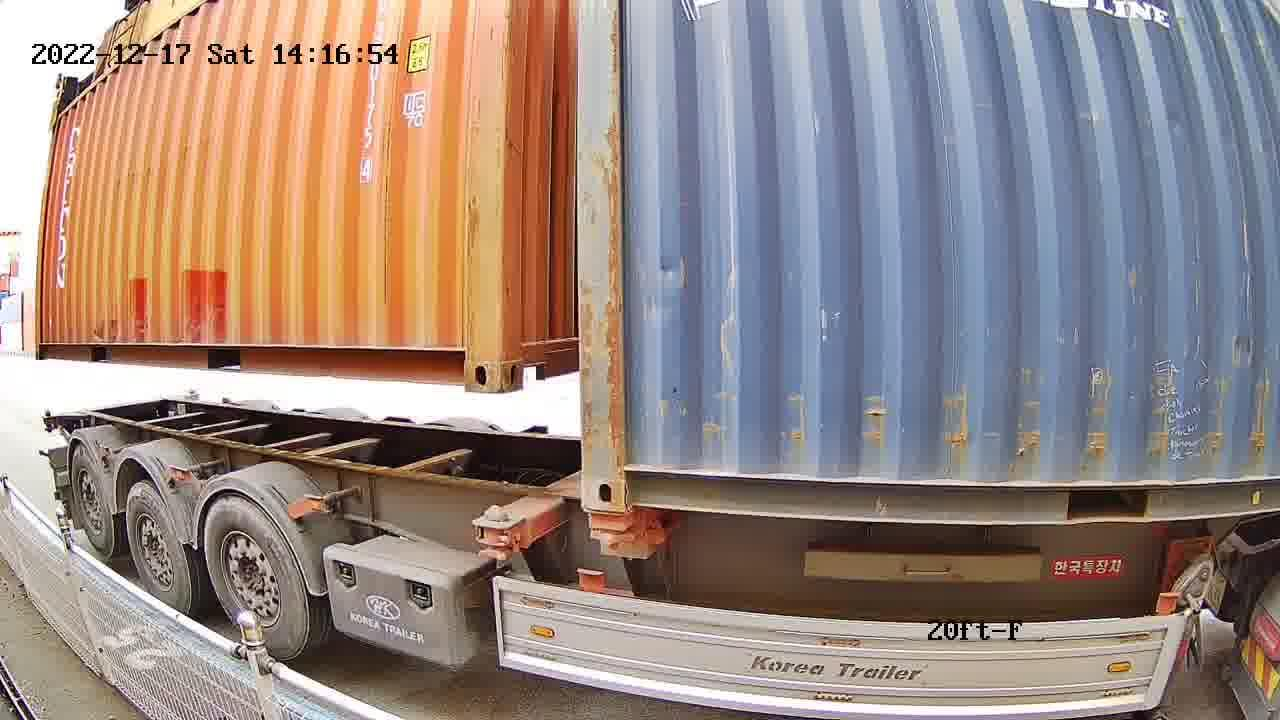Cone: (471, 502, 518, 564), (580, 511, 630, 557), (39, 406, 57, 437)
Hole_L: (583, 436, 669, 512), (501, 325, 554, 393)
Hole_R: (429, 326, 502, 393)
Tire: (204, 502, 310, 655), (124, 484, 188, 606), (70, 447, 113, 552)
